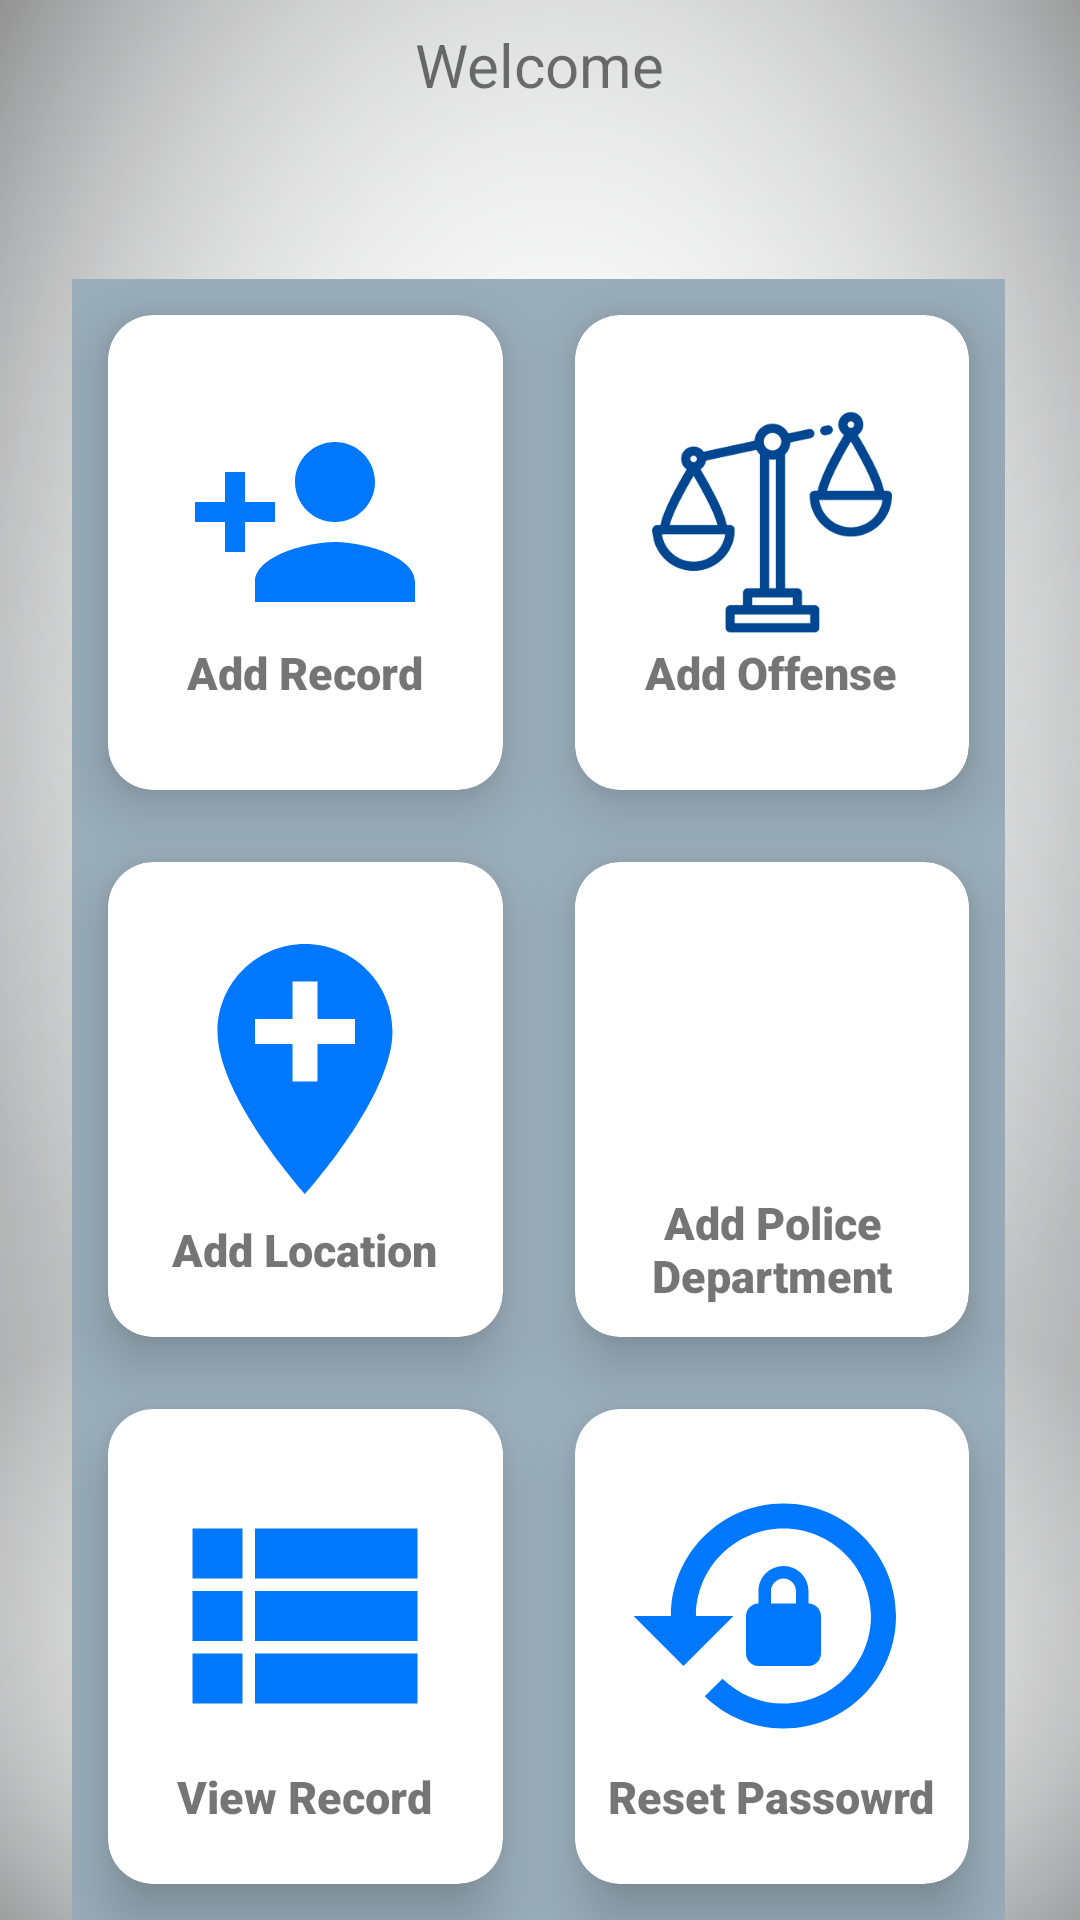

Icons on this 1080x1920 Android screen, each with its box as (x1, y1, x2, y2):
lock: (633, 1503, 896, 1729)
person add: (195, 442, 415, 602)
view list: (192, 1528, 418, 1704)
